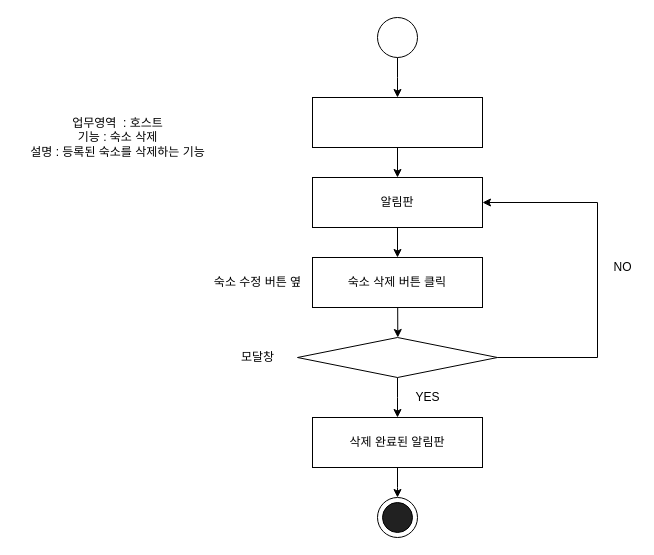
The diagram is 654 pixels wide and 555 high, and some of its shapes have lost their labels. The shapes that lost their labels are listed below. From the top down, each one's centre as x and y in pixels, then its label:
At [397,122]: "호스트".
At [397,357]: "삭제 확인".
